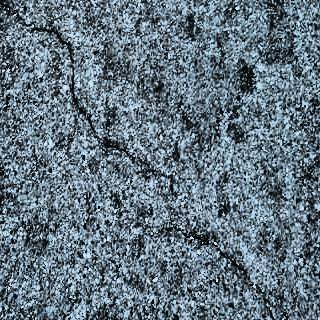crack: (11, 6, 152, 168), (163, 209, 253, 278)
